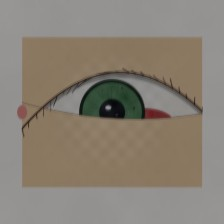hemorrhage_spot: (100, 88, 184, 155)
